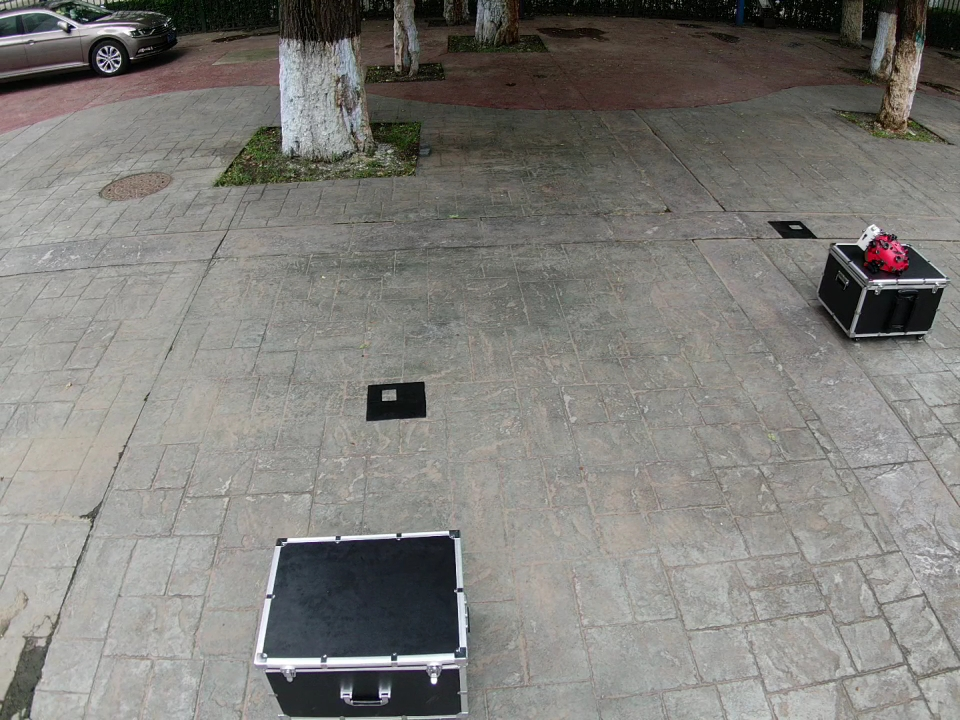box: (255, 530, 469, 718), (820, 244, 941, 336)
helmet: (865, 235, 908, 275)
qrcode: (366, 382, 426, 420), (768, 221, 818, 238)
